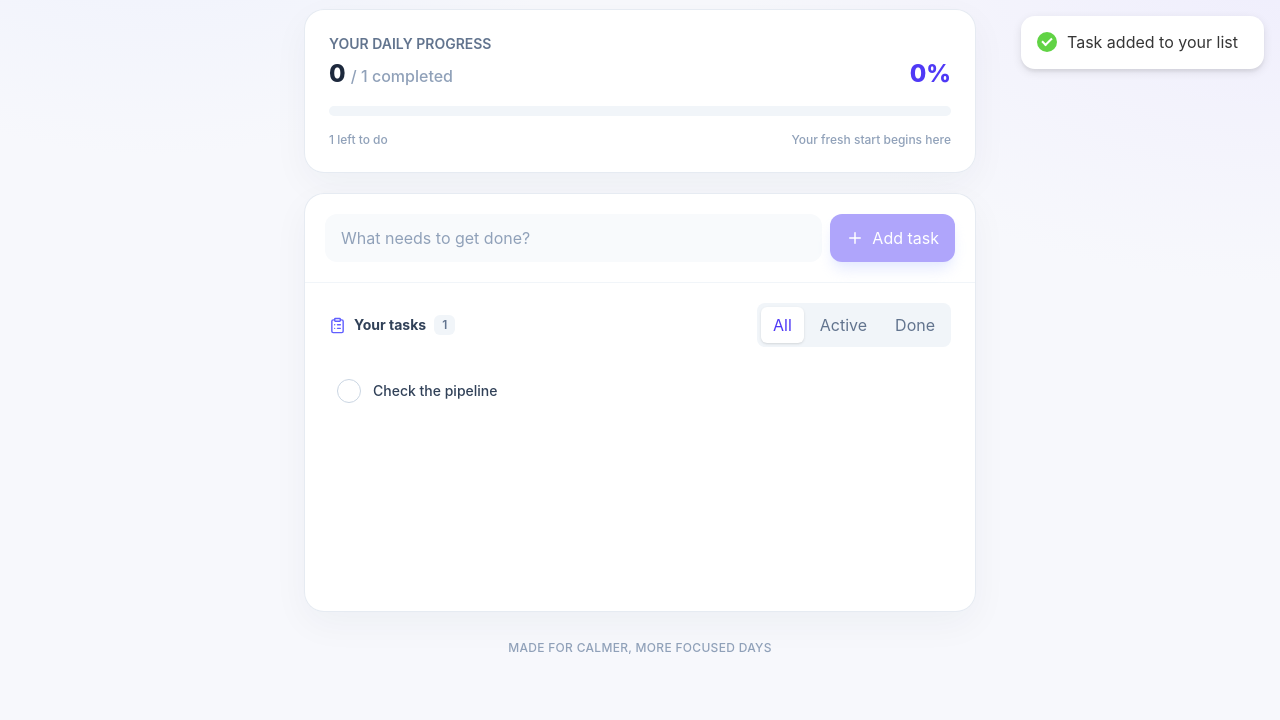
Scenario: Daylight Todo UI › marks a task completed and sends the update to the API
(page scrolled)
Click the button named "Mark as completed": (349, 391) [337, 379, 361, 403]
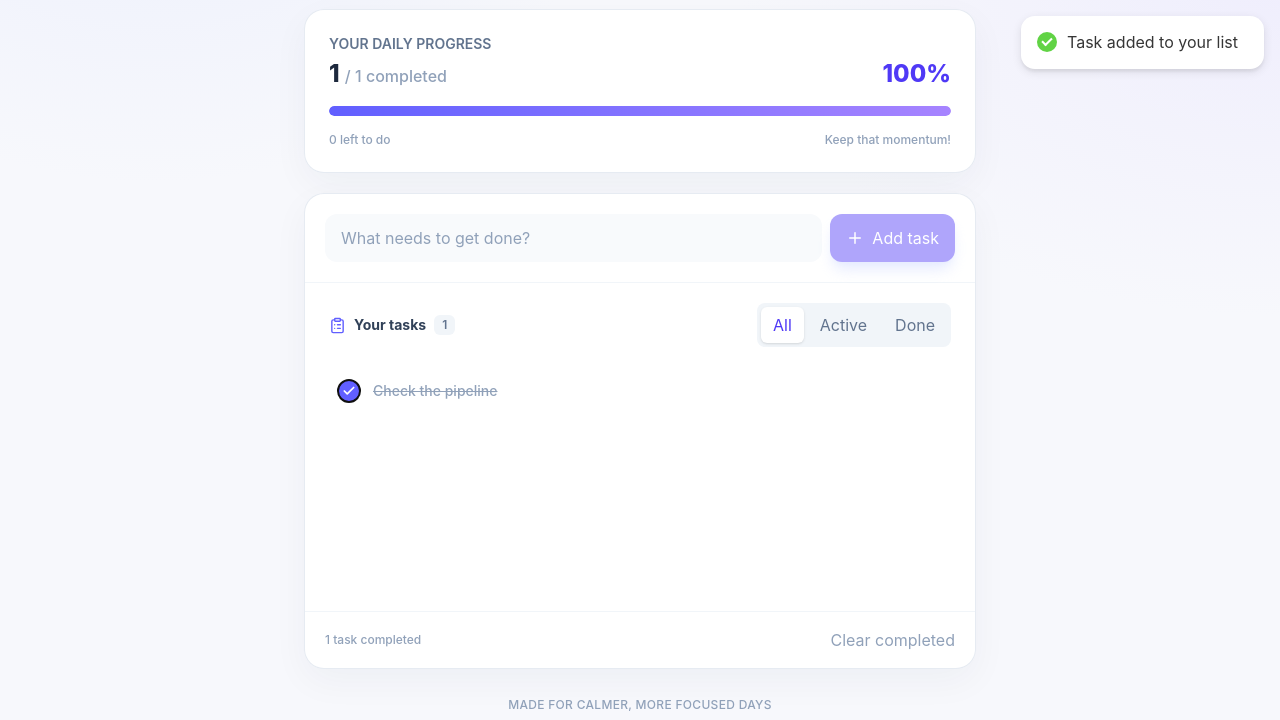
Expected: the text "100%" is shown, [882, 58, 951, 90]
